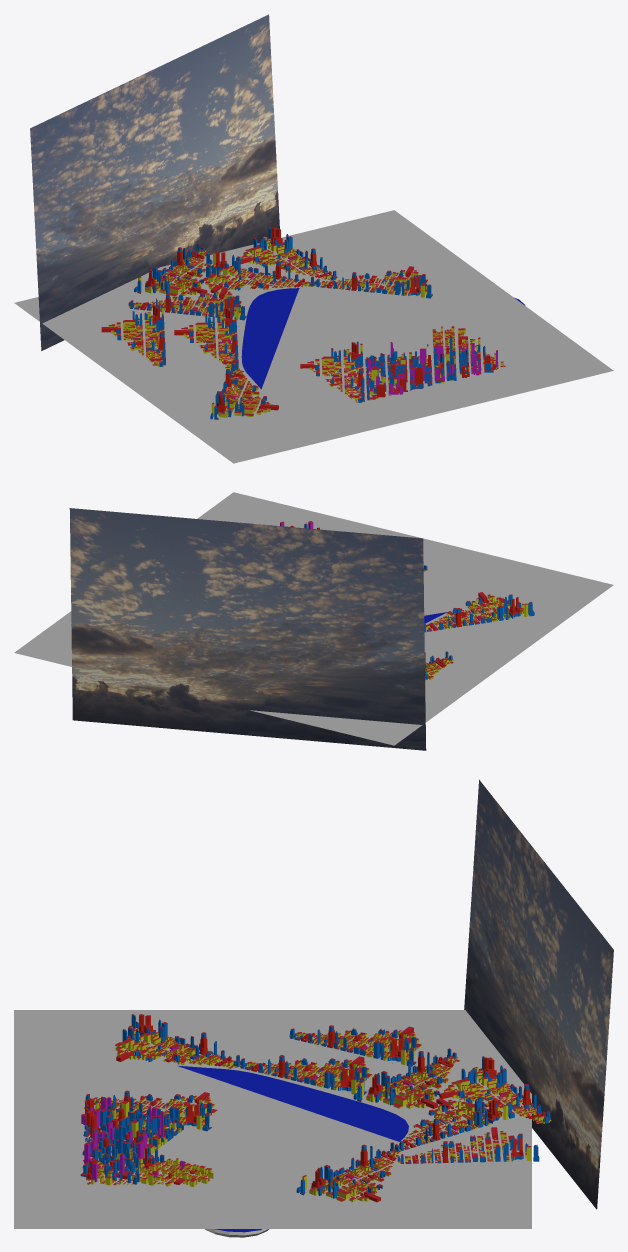
The model's file is CIT.obj.
3 views of the same model, one above another, from view 1: azimuth 30°, elevation 25°; view 2: azimuth 150°, elevation 25°; view 3: azimuth 270°, elevation 25° (orthographic). The views are drawn at different scales.
Visible parts, largest first — view 1: Plane, TexturesCom_Skies0206_1_M, 292041611, Plane.001, 292041611.001, 292041611.014, 292041611.017, 292041611.006, 292041611.005, 292041611.013, 292041611.002, 292041611.009 (+9 smaller); view 2: TexturesCom_Skies0206_1_M, Plane, 292041611.005, 292041611.004, 292041611.013; view 3: Plane, TexturesCom_Skies0206_1_M, 292041611, Plane.001, 292041611.001, 292041611.005, 292041611.010, 292041611.009, 292041611.017, 292041611.013, 292041611.006, 292041611.002 (+9 smaller).
Boxes of the visible parts, x1=… form: Plane: x1=14, y1=210, x2=613, y2=463; TexturesCom_Skies0206_1_M: x1=30, y1=14, x2=279, y2=350; 292041611: x1=300, y1=328, x2=505, y2=402; Plane.001: x1=241, y1=288, x2=525, y2=389; 292041611.001: x1=300, y1=326, x2=505, y2=402; 292041611.014: x1=240, y1=227, x2=337, y2=280; 292041611.017: x1=134, y1=244, x2=208, y2=296; 292041611.006: x1=204, y1=253, x2=314, y2=292; 292041611.005: x1=210, y1=363, x2=278, y2=419; 292041611.013: x1=101, y1=305, x2=165, y2=366; 292041611.002: x1=174, y1=307, x2=238, y2=369; 292041611.009: x1=315, y1=267, x2=432, y2=298; TexturesCom_Skies0206_1_M: x1=69, y1=508, x2=426, y2=750; Plane: x1=14, y1=492, x2=613, y2=745; 292041611.005: x1=424, y1=593, x2=534, y2=632; 292041611.004: x1=424, y1=592, x2=533, y2=630; 292041611.013: x1=424, y1=652, x2=453, y2=680; Plane: x1=14, y1=1010, x2=531, y2=1237; TexturesCom_Skies0206_1_M: x1=464, y1=779, x2=613, y2=1209; 292041611: x1=80, y1=1092, x2=217, y2=1187; Plane.001: x1=177, y1=1065, x2=408, y2=1232; 292041611.001: x1=81, y1=1090, x2=217, y2=1184; 292041611.005: x1=115, y1=1014, x2=240, y2=1068; 292041611.010: x1=353, y1=1049, x2=459, y2=1108; 292041611.009: x1=296, y1=1143, x2=401, y2=1202; 292041611.017: x1=439, y1=1056, x2=551, y2=1123; 292041611.013: x1=289, y1=1026, x2=421, y2=1066; 292041611.006: x1=394, y1=1097, x2=514, y2=1151; 292041611.002: x1=239, y1=1056, x2=372, y2=1094.
Bounding box in the file's own units: 455 × 244 × 514.
8 materials, 1 textured.
